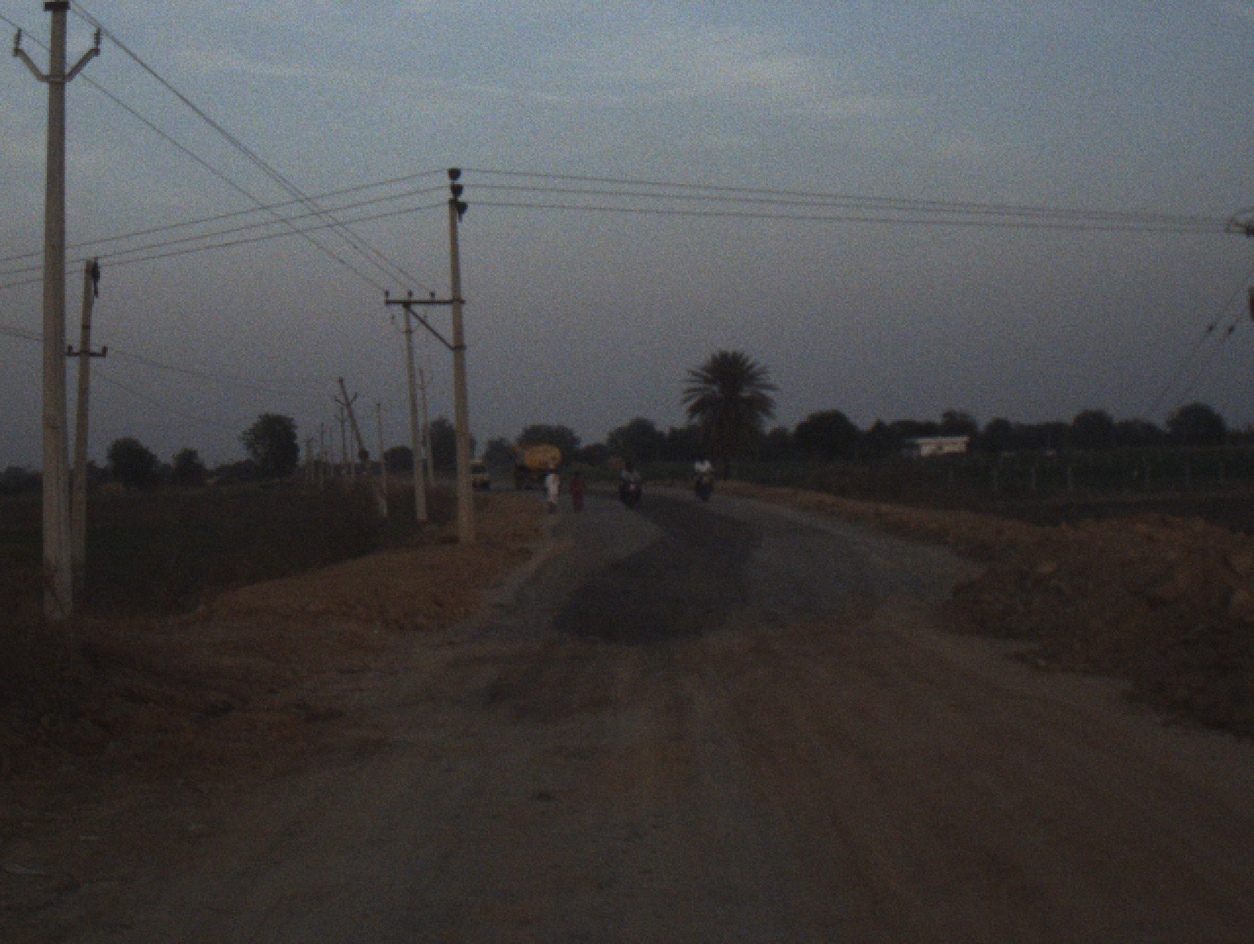car: (451, 452, 490, 496)
motorcycle: (687, 465, 719, 509), (617, 474, 642, 508)
person: (570, 465, 589, 511), (548, 465, 563, 515)
rider: (696, 452, 712, 492), (617, 461, 639, 485)
truck: (511, 444, 563, 490)
